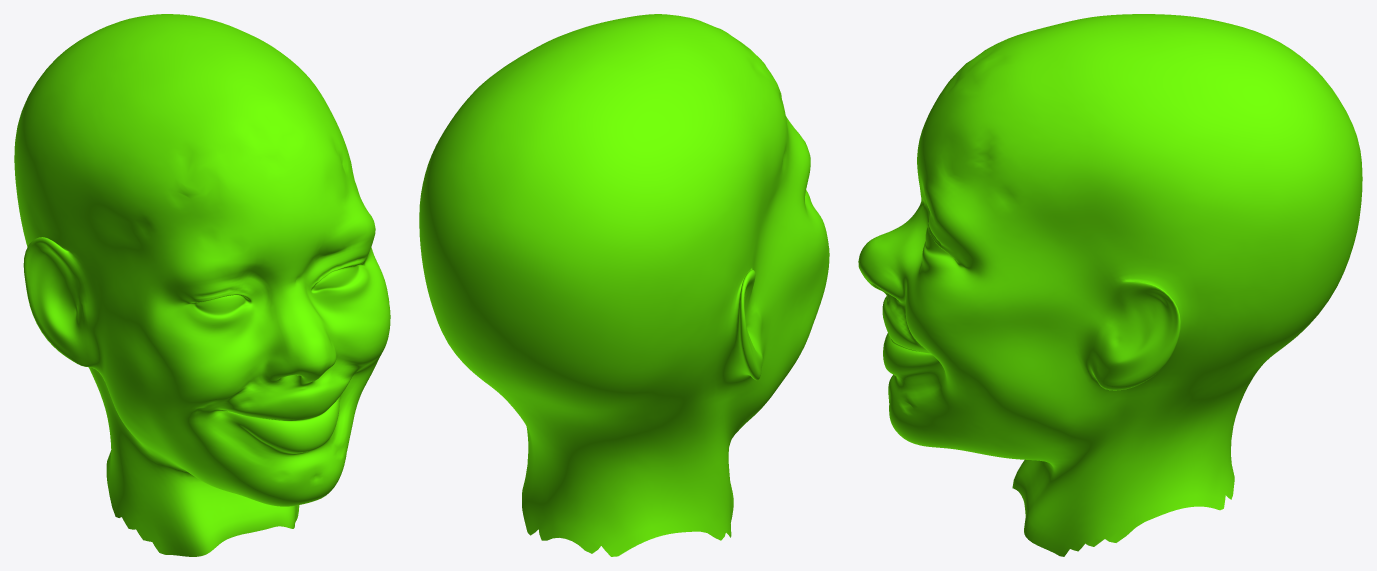
File: head_green-transformed.glb
The picture shows the model from 3 angles, left to right: view 1: azimuth 30°, elevation 25°; view 2: azimuth 150°, elevation 25°; view 3: azimuth 270°, elevation 25°; orthographic projection. The views are drawn at different scales.
Parts seen in each view (by area): view 1: FaceBuilderHead.002; view 2: FaceBuilderHead.002; view 3: FaceBuilderHead.002.
Boxes of the visible parts, x1,y1,x2,y2 form: FaceBuilderHead.002: [14, 14, 390, 556]; FaceBuilderHead.002: [419, 14, 829, 556]; FaceBuilderHead.002: [858, 14, 1362, 556].
Size of the model in its own units: 1.96 by 2.91 by 2.69.
